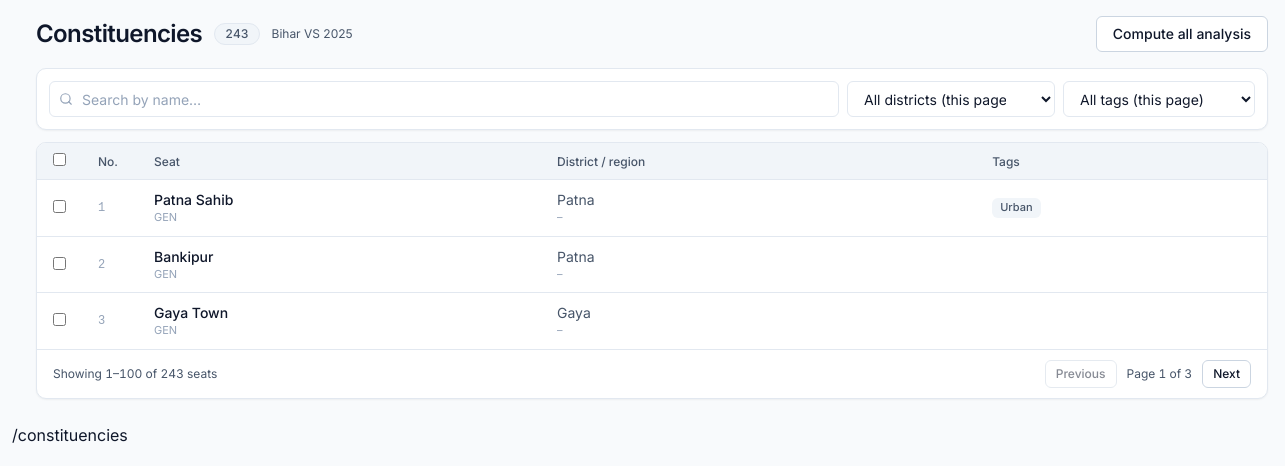
Constituencies page › a row checkbox selects without opening the record
Click the checkbox named "Select Bankipur".
click(60, 263)  # box [53,256,66,270]
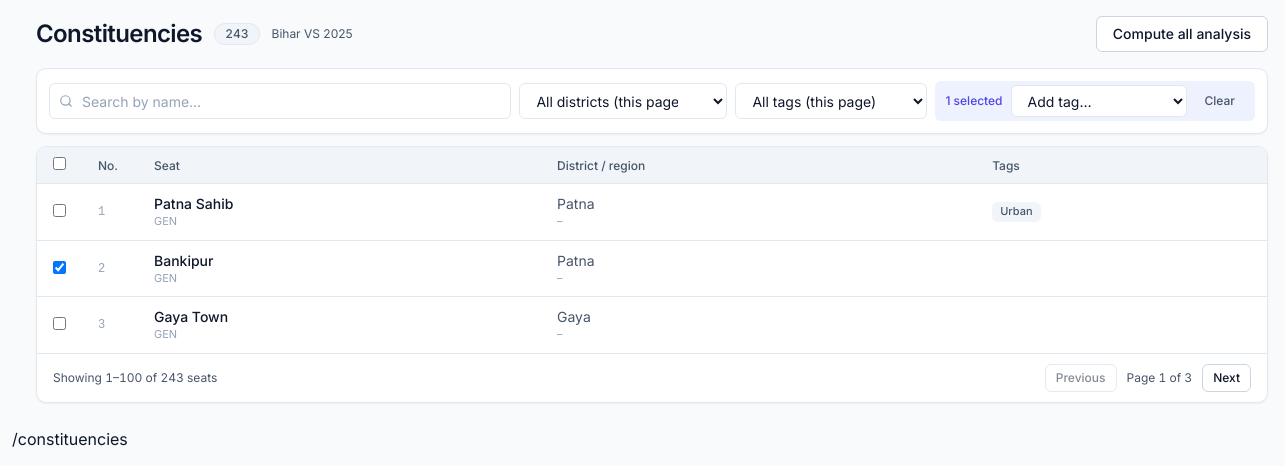
Expected: the text with test id "where" reads "/constituencies", [12,429,128,449]
Result: the text "1 selected" is shown at [945,93,1002,109]
